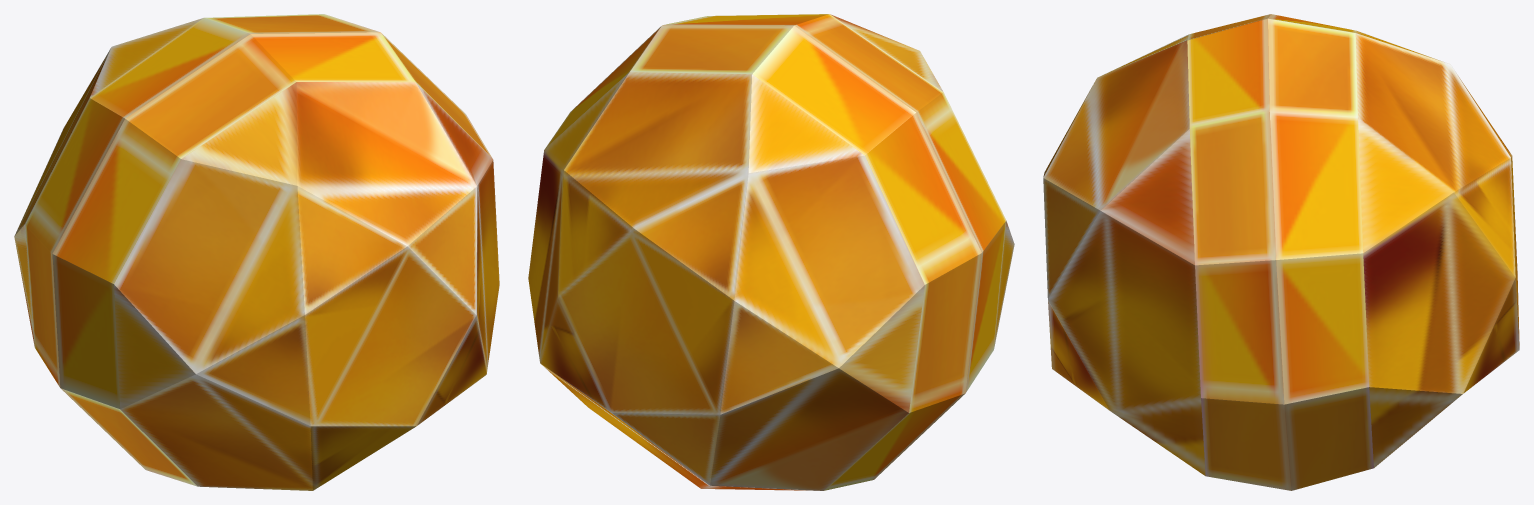
The model's file is bon_2.fbx.
3 views of the same model, side by side, from view 1: azimuth 30°, elevation 25°; view 2: azimuth 150°, elevation 25°; view 3: azimuth 270°, elevation 25° (orthographic).
Parts seen in each view (by area): view 1: gem_2; view 2: gem_2; view 3: gem_2.
Part boxes in pixels (x1,y1,x2,y2): gem_2: (14,14,499,490); gem_2: (528,14,1014,490); gem_2: (1043,14,1519,490).
Bounding box in the file's own units: 63.41 × 64.77 × 62.32.
